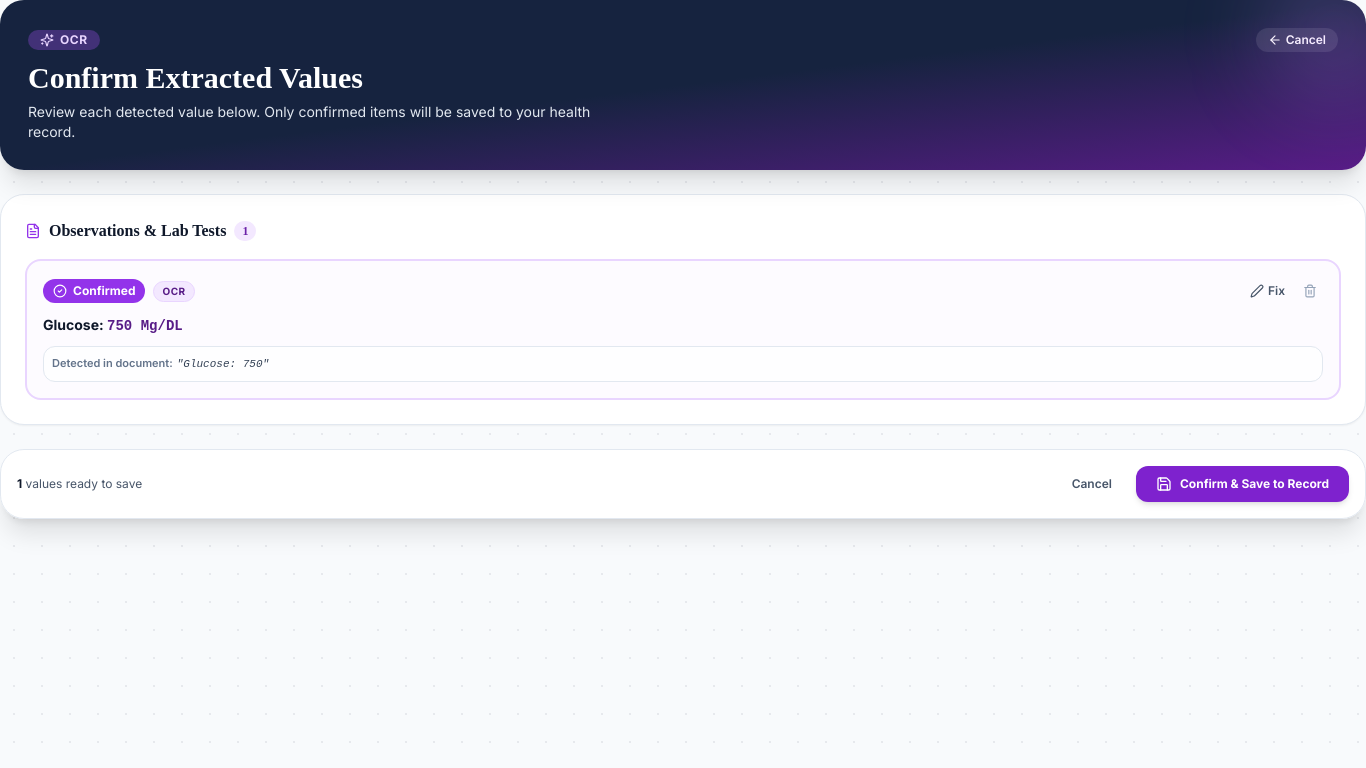
Test: OCR v1 UI (HealthRecordScreen & OcrConfirmScreen) › highlights invalid item and shows translated guidance when confirm rejects with invalid_item
Click the button with test id "ocr-save-confirmed-btn": coordinates (1242, 484) [1136,466,1349,502]
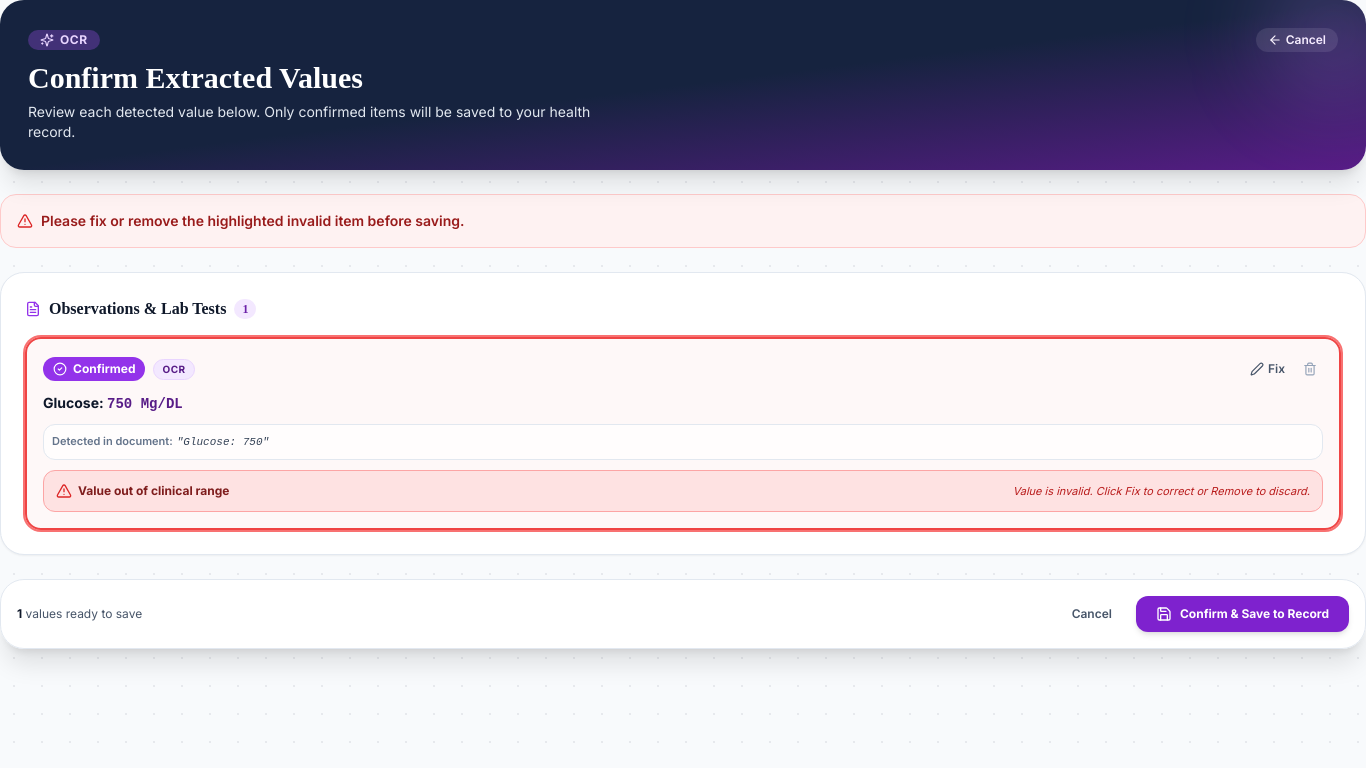
Expected: the element with test id "ocr-invalid-item-highlight" is shown, [43,470,1323,512]
Expected: the text "Value out of clinical range" is shown, [78,482,229,498]
Expected: the text "Please fix or remove the highlighted invalid item before saving." is shown, [41,211,464,231]
